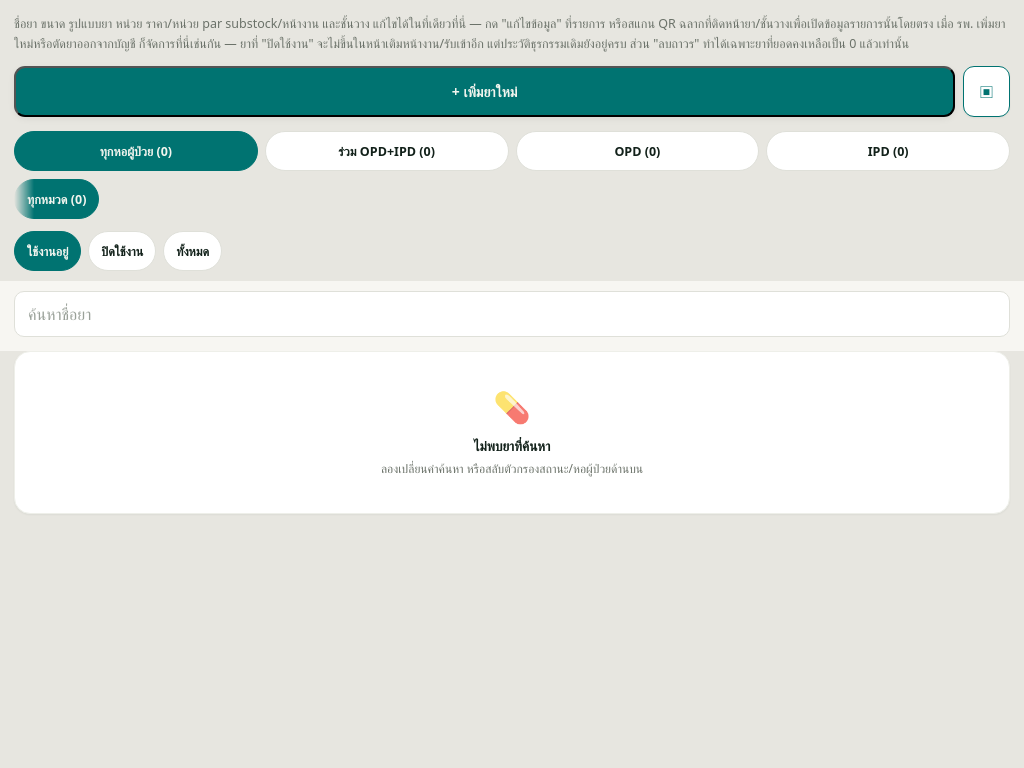
Test case: MedsScreen — edit-form days-of-stock-left regression › never shows a days-left line at all on the blank "เพิ่มยาใหม่" form
This screenshot has width=1024, height=768.
Click the button "+ เพิ่มยาใหม่": (485, 92) [14,66,955,117]
(page scrolled)
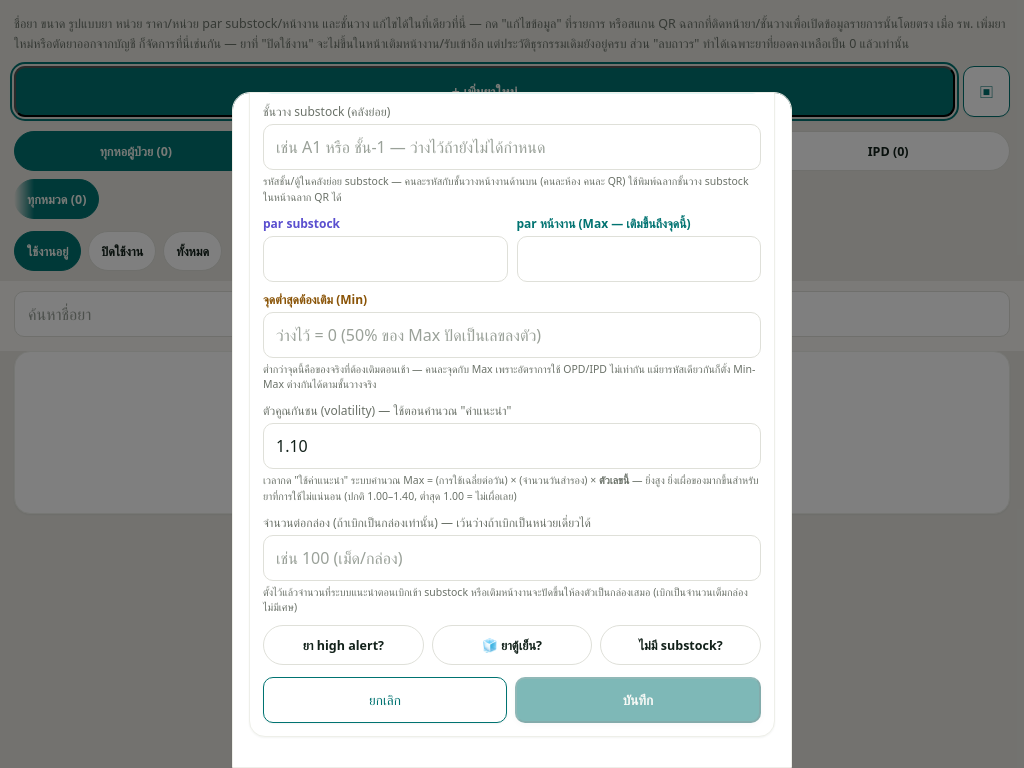
Expected: the button "บันทึก" is shown, [515,677,761,723]
